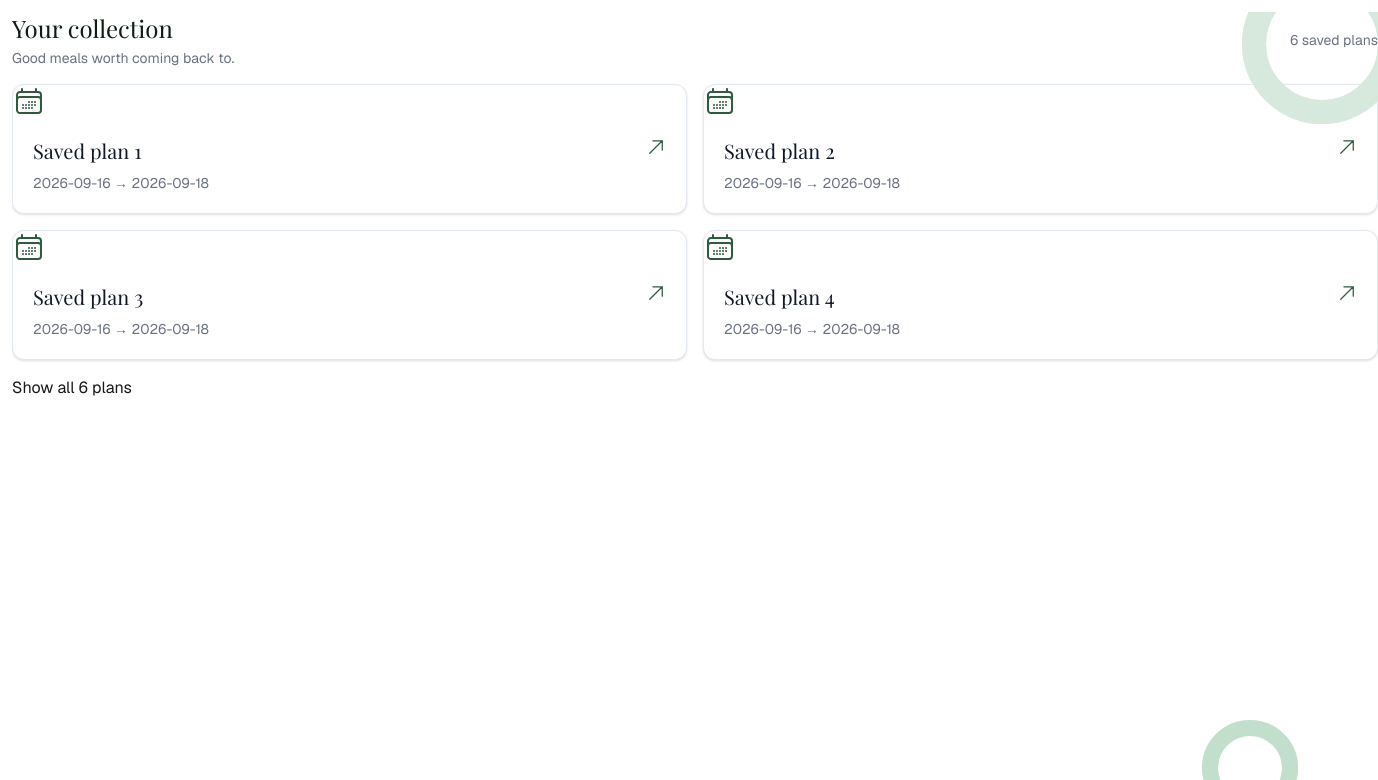
plan history › shows a compact history and makes every saved plan accessible, including malformed plans
Check: the number of links is 4, box [12,84,687,214]; [703,84,1377,214]; [12,230,687,360]; [703,230,1377,360]
Click the button "Show all 6 plans": (72, 388) [12,376,132,400]
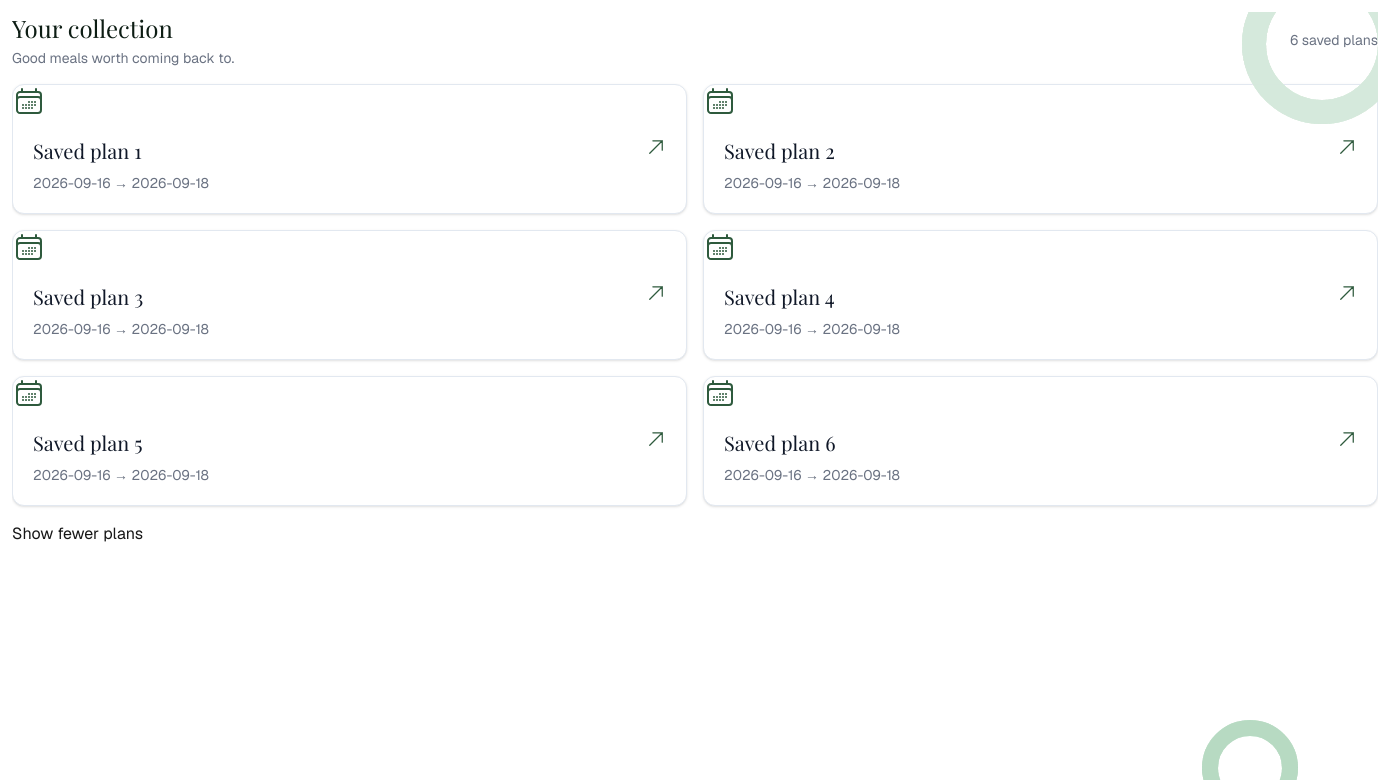
Check: the number of links is 6, box [12,84,687,214]; [703,84,1377,214]; [12,230,687,360]; [703,230,1377,360]; [12,376,687,506]; [703,376,1377,506]
